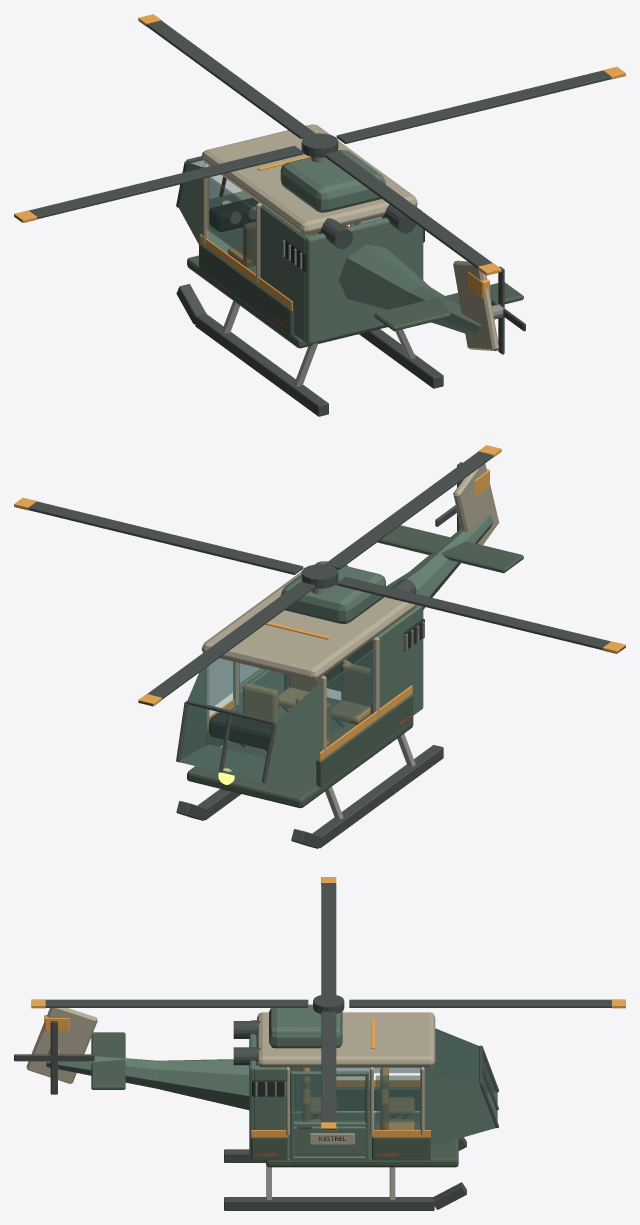
Rendered from kestrel_courier.glb.
3 views of the same model, one above another, from view 1: azimuth 30°, elevation 25°; view 2: azimuth 150°, elevation 25°; view 3: azimuth 270°, elevation 25° (orthographic). The views are drawn at different scales.
Visible parts, largest first — view 1: Body_helicopter, Rotor_main, Roof_cabin, Rotor_tail; view 2: Body_helicopter, Rotor_main, Roof_cabin, Door_passenger; view 3: Body_helicopter, Roof_cabin, Rotor_main, Door_passenger, Rotor_tail.
Boxes of the visible parts, bbox=[...] form: Body_helicopter: bbox=[176, 156, 523, 416]; Rotor_main: bbox=[14, 14, 625, 275]; Roof_cabin: bbox=[201, 124, 417, 234]; Rotor_tail: bbox=[490, 266, 525, 354]; Body_helicopter: bbox=[176, 463, 523, 848]; Rotor_main: bbox=[14, 445, 625, 706]; Roof_cabin: bbox=[201, 561, 416, 680]; Door_passenger: bbox=[235, 663, 283, 713]; Body_helicopter: bbox=[26, 1008, 498, 1210]; Roof_cabin: bbox=[257, 1004, 435, 1067]; Rotor_main: bbox=[31, 877, 625, 1130]; Door_passenger: bbox=[290, 1071, 369, 1160]; Rotor_tail: bbox=[14, 1021, 94, 1094].
Size of the model in its own units: 9.88 by 3.38 by 10.17.
